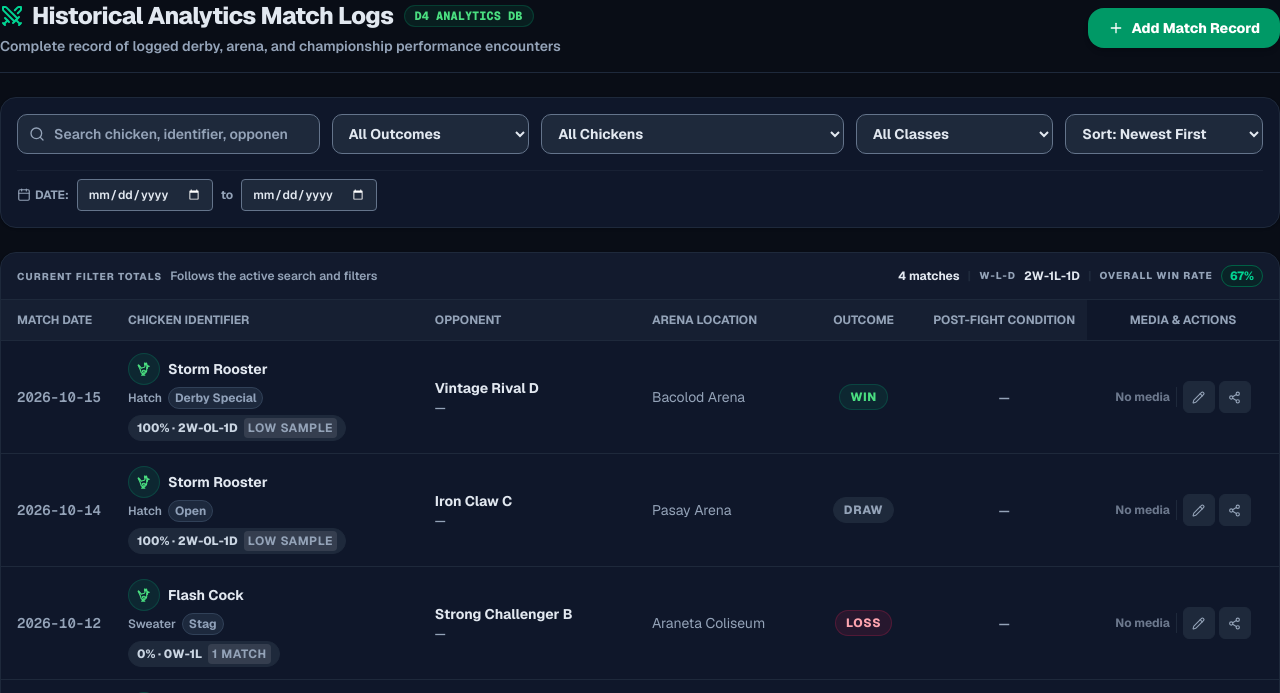
Test: MatchLogsView › filters matches by outcome select
Filter by WIN
Select "WIN" in the dropdown showing "All Outcomes" at (430, 134), box top-left (332, 114), bottom-right (529, 154)
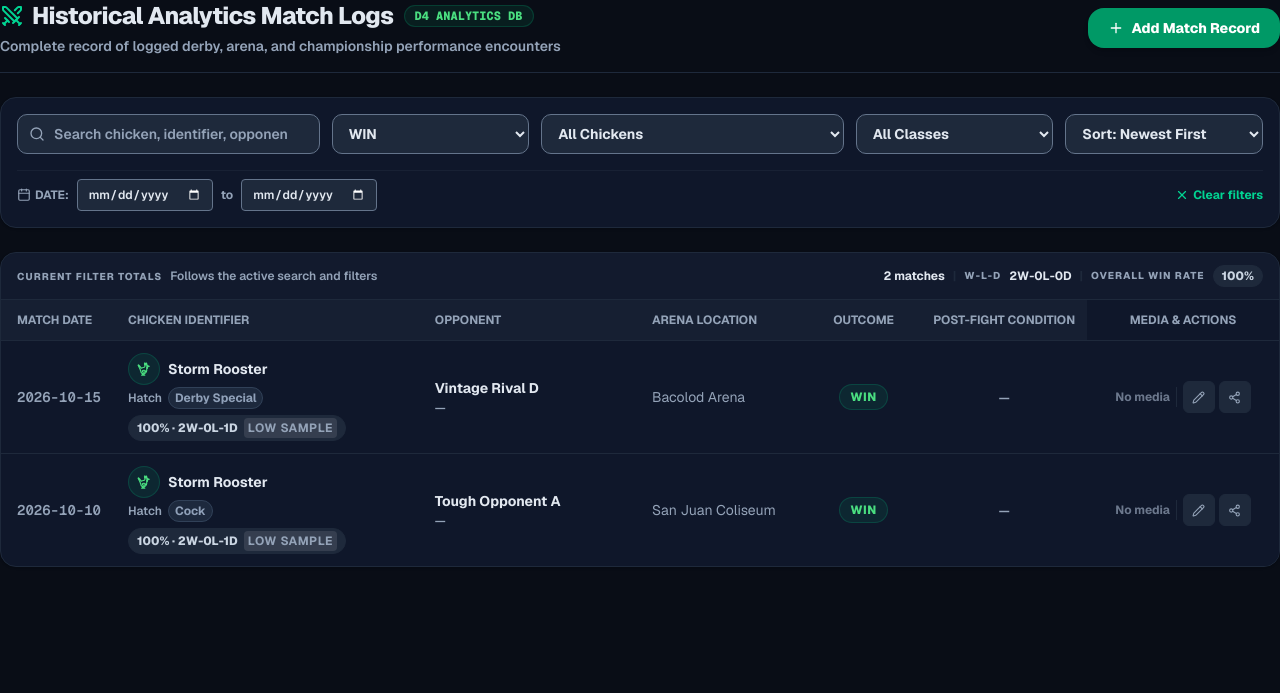
Expected: the text "Tough Opponent A" is shown, top-left (435, 491), bottom-right (561, 511)
Now the text "Strong Challenger B" is gone
Filter by LOSS
Select "LOSS" in the dropdown showing "All Outcomes" at (430, 134), box top-left (332, 114), bottom-right (529, 154)
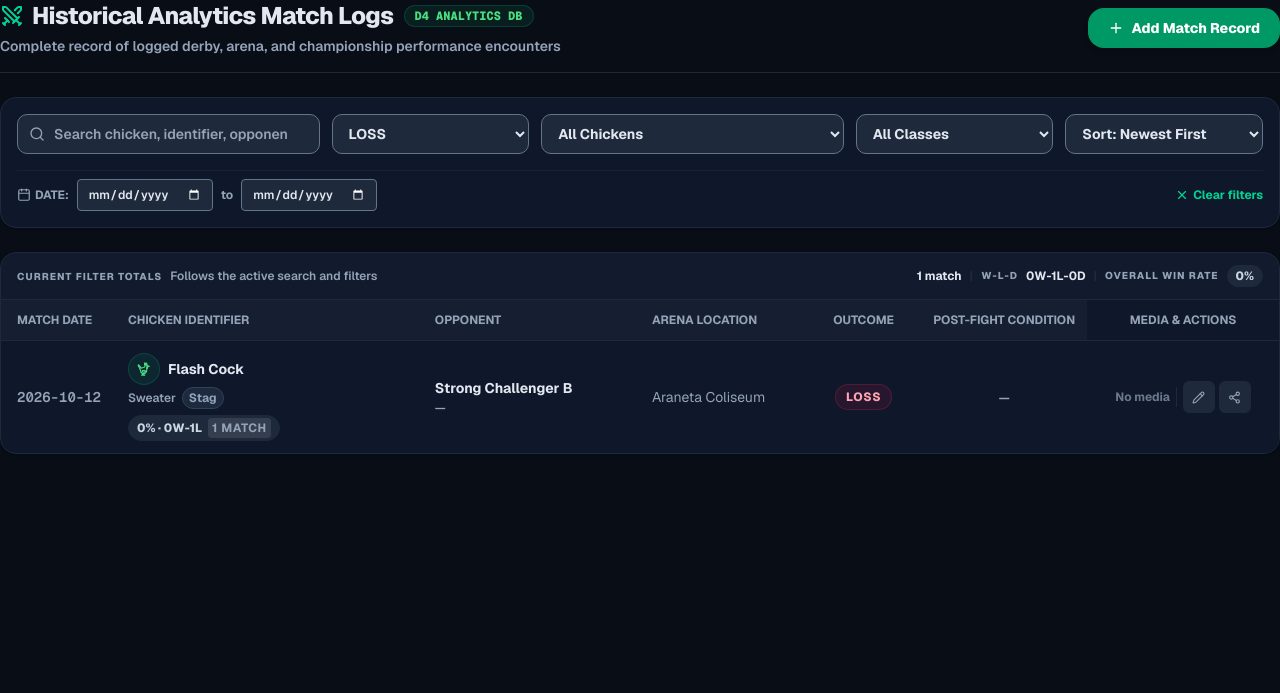
Now the text "Strong Challenger B" is shown, box top-left (435, 378), bottom-right (572, 398)
Now the text "Tough Opponent A" is gone
